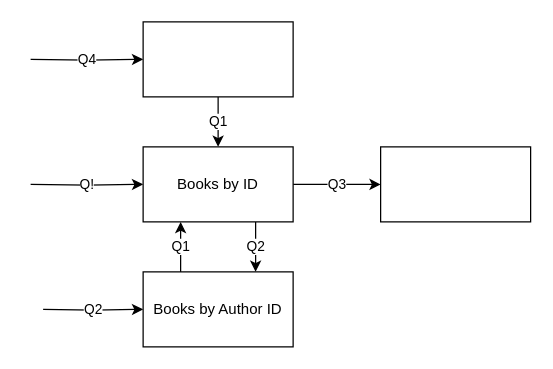
This 553x369 diagram has some shape labels left out. Here are the shapes that lost their labels. From the top down, the box of each, then its label:
(142, 21, 293, 97): User Books by User ID
(379, 146, 531, 222): User Books by Book Id and User ID
